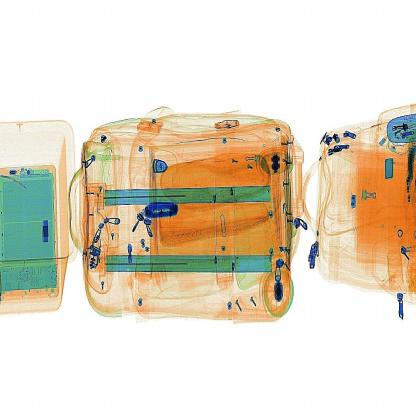scissors: (138, 194, 184, 226)
